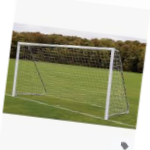goals: (12, 40, 130, 120)
